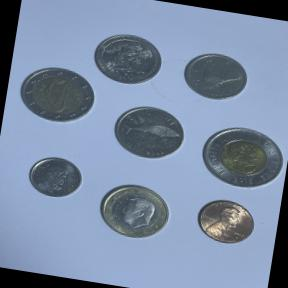1 Euro-B: (89, 174, 182, 250)
2 Euro-B: (16, 59, 102, 129)
Canada-10cent-B: (20, 147, 90, 205)
Canada-2Dollar-B: (191, 118, 288, 197)
Croatia-2Kune-B: (107, 97, 192, 167)
US-1cent-B: (185, 190, 261, 252)
US-25cent-B: (88, 26, 168, 90)
